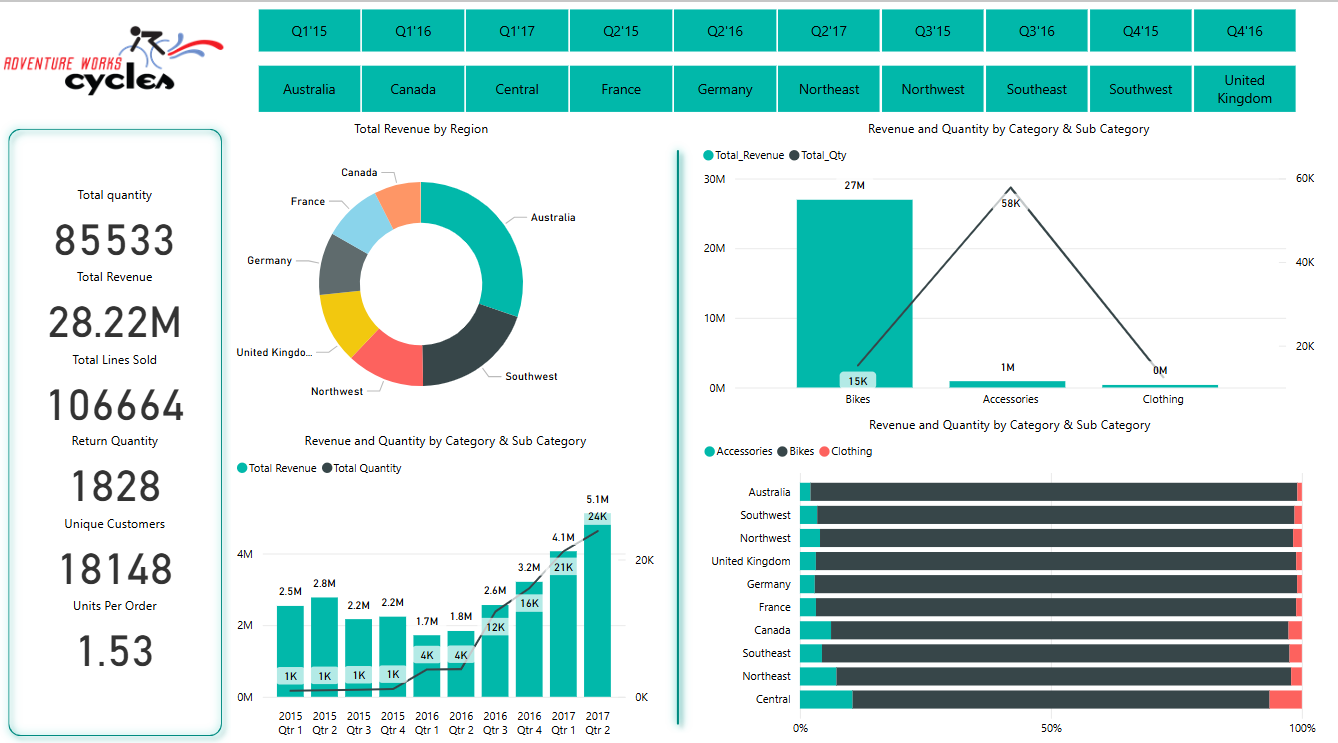

What the dashboard file says about the page in this screenshot:
{"tool":"powerbi","page":{"name":"Summary","canvas":[1280,720],"ordinal":0},"visuals":[{"type":"slicer","fields":{"Values":["AW_Calender.Quater_Year"]},"box":[225,0,1055.2,54.9],"z":0},{"type":"slicer","fields":{"Values":["AW_Territories.Region"]},"box":[225,54.9,1055.2,59],"z":1000},{"type":"shape","box":[0,113.9,225,606.5],"z":2000},{"type":"card","title":"Total quantity","fields":{"Values":["All_Measure.Total_Qty"]},"box":[17.8,178.4,188,79.6],"z":3000},{"type":"card","title":"Total Revenue","fields":{"Values":["All_Measure.Total_Revenue"]},"box":[17.8,258,188,79.6],"z":4000},{"type":"card","title":"Total Lines Sold","fields":{"Values":["All_Measure.Total_LinesSold"]},"box":[17.8,337.6,188,79.6],"z":5000},{"type":"card","title":"Return Quantity","fields":{"Values":["All_Measure.Return_Qty"]},"box":[17.8,417.2,188,79.6],"z":6000},{"type":"card","title":"Unique Customers","fields":{"Values":["All_Measure.Unique_Customer"]},"box":[17.8,496.7,188,79.6],"z":7000},{"type":"card","title":"Units Per Order","fields":{"Values":["All_Measure.Units_per_order"]},"box":[17.8,576.3,188,79.6],"z":8000},{"type":"donutChart","title":"Total Revenue by Region","fields":{"Category":["AW_Territories.Region"],"Y":["Sum(AW_Sales.Total_Revenue)"]},"box":[225,113.9,367.8,303.3],"z":9000},{"type":"lineStackedColumnComboChart","title":"Revenue and Quantity by Category & Sub Category","fields":{"Y":["Sum(AW_Sales.Total_Revenue)"],"Y2":["All_Measure.Total_Qty"],"Category":["AW_Calender.OrderDate.Variation.Date Hierarchy.Year","AW_Calender.OrderDate.Variation.Date Hierarchy.Quarter"]},"box":[225,417,414.5,303.3],"z":10000},{"type":"hundredPercentStackedBarChart","title":"Revenue and Quantity by Category & Sub Category","fields":{"Category":["AW_Territories.Region"],"Y":["Sum(AW_Sales.Total_Revenue)"],"Series":["AW_Product_Categories.CategoryName"]},"box":[677.9,400.7,602.4,319.7],"z":11000},{"type":"lineClusteredColumnComboChart","title":"Revenue and Quantity by Category & Sub Category","fields":{"Category":["AW_Product_Categories.CategoryName"],"Y2":["All_Measure.Total_Qty"],"Y":["All_Measure.Total_Revenue"]},"box":[677.4,113.7,602.9,287.4],"z":12000},{"type":"image","box":[0,0,225,113.7],"z":13000},{"type":"shape","box":[639.5,134.5,36.7,574.7],"z":14000}]}

Visuals, with their boxes in screenshot pixels (x1, y1, x2, y2), scaled from the page's 1280x720 canvas onto the 1338x743 screenshot:
slicer - AW_Calender.Quater_Year: [x1=235, y1=0, x2=1337, y2=57]
slicer - AW_Territories.Region: [x1=235, y1=57, x2=1337, y2=118]
shape: [x1=0, y1=118, x2=235, y2=742]
"Total quantity" card: [x1=19, y1=184, x2=215, y2=266]
"Total Revenue" card: [x1=19, y1=266, x2=215, y2=348]
"Total Lines Sold" card: [x1=19, y1=348, x2=215, y2=431]
"Return Quantity" card: [x1=19, y1=431, x2=215, y2=513]
"Unique Customers" card: [x1=19, y1=513, x2=215, y2=595]
"Units Per Order" card: [x1=19, y1=595, x2=215, y2=677]
"Total Revenue by Region" donutChart: [x1=235, y1=118, x2=620, y2=431]
"Revenue and Quantity by Category & Sub Category" lineStackedColumnComboChart: [x1=235, y1=430, x2=668, y2=742]
"Revenue and Quantity by Category & Sub Category" hundredPercentStackedBarChart: [x1=709, y1=414, x2=1337, y2=742]
"Revenue and Quantity by Category & Sub Category" lineClusteredColumnComboChart: [x1=708, y1=117, x2=1337, y2=414]
image: [x1=0, y1=0, x2=235, y2=117]
shape: [x1=668, y1=139, x2=707, y2=732]
